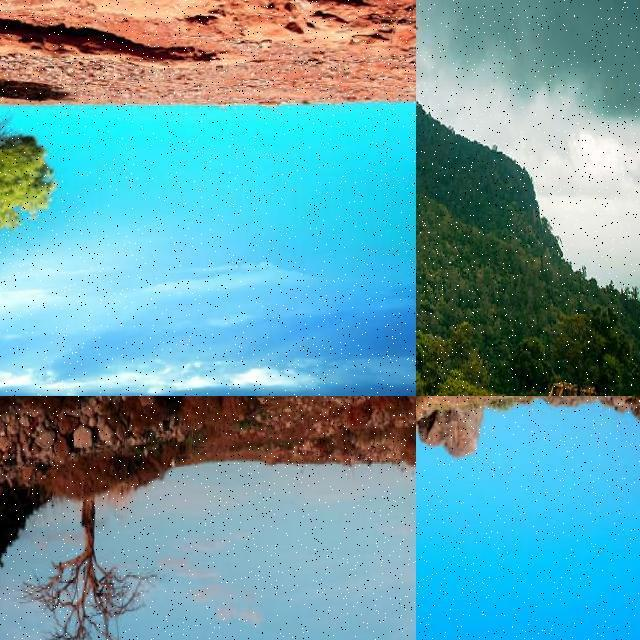tree: (416, 0, 532, 380), (16, 492, 172, 640), (0, 96, 76, 236), (416, 440, 476, 596), (416, 100, 438, 232)
